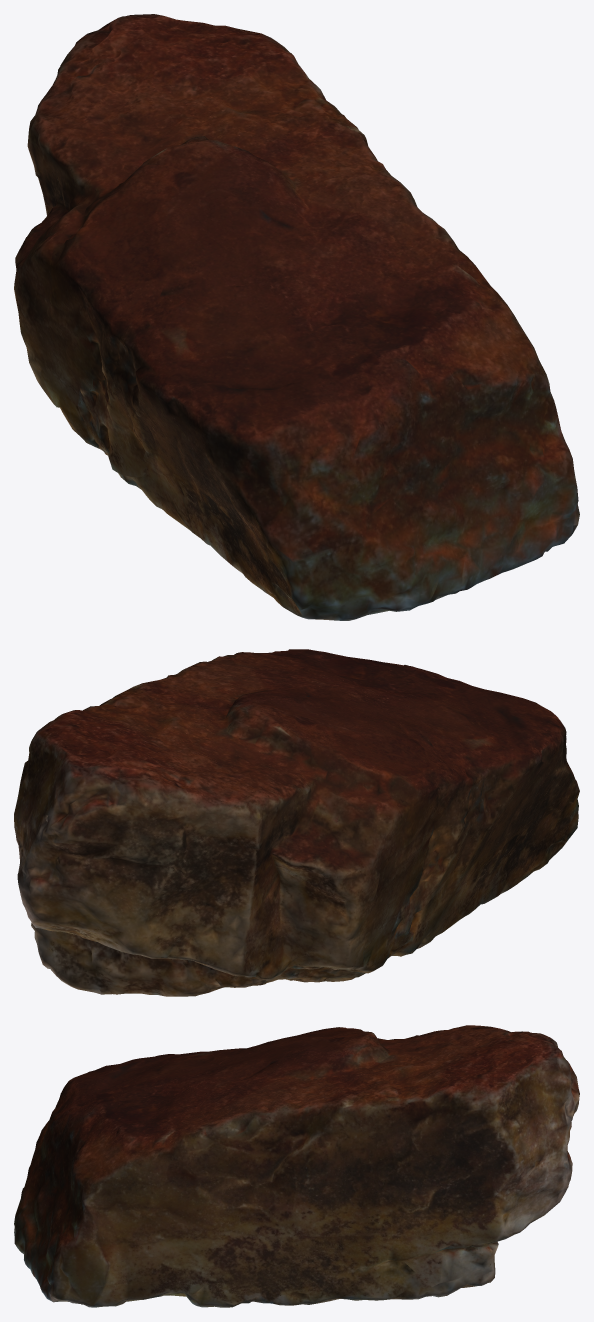
Rendered from rock_a.glb.
3 renders of one model, top to bottom at view 1: azimuth 30°, elevation 25°; view 2: azimuth 150°, elevation 25°; view 3: azimuth 270°, elevation 25°, orthographic. The views are drawn at different scales.
Parts seen in each view (by area): view 1: rock_07; view 2: rock_07; view 3: rock_07.
Part boxes in pixels (x1=…): rock_07: x1=14, y1=14, x2=579, y2=620; rock_07: x1=14, y1=649, x2=579, y2=996; rock_07: x1=14, y1=1025, x2=579, y2=1307.
Size of the model in its own units: 0.8437 by 0.718 by 1.6.
Materials: 1 (1 with a texture image).
